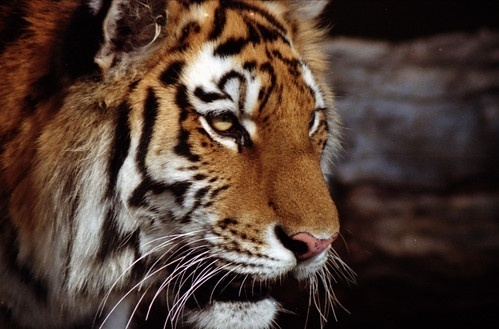tigre: (1, 1, 357, 328)
